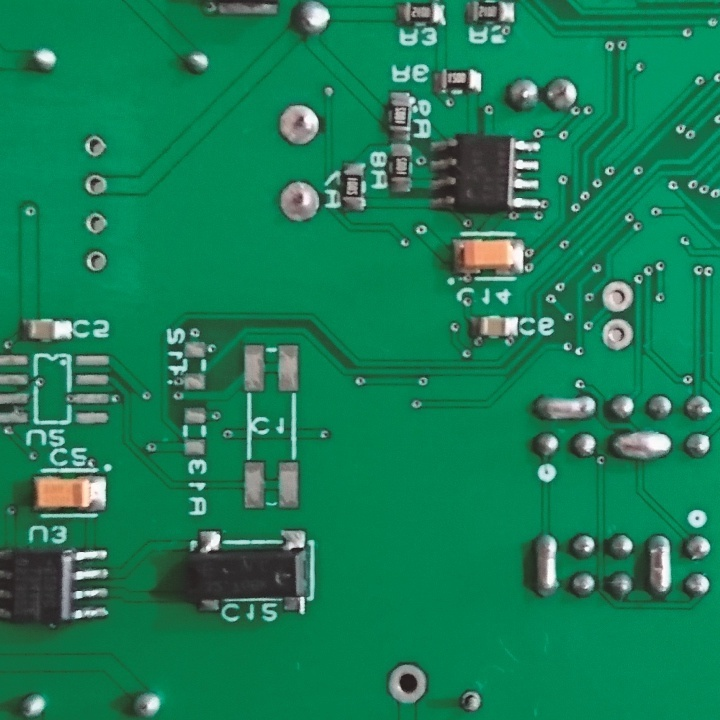F: (276, 99, 321, 149), (276, 178, 321, 224), (385, 663, 430, 705), (599, 314, 634, 353), (599, 280, 636, 313), (83, 246, 110, 277), (81, 210, 110, 236), (83, 133, 108, 160), (83, 173, 109, 198), (459, 688, 484, 714)
P: (644, 528, 675, 604), (530, 390, 601, 423), (607, 429, 675, 463), (530, 529, 561, 603)
